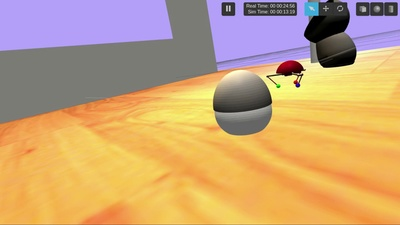mira_robot: (213, 69, 273, 136)
